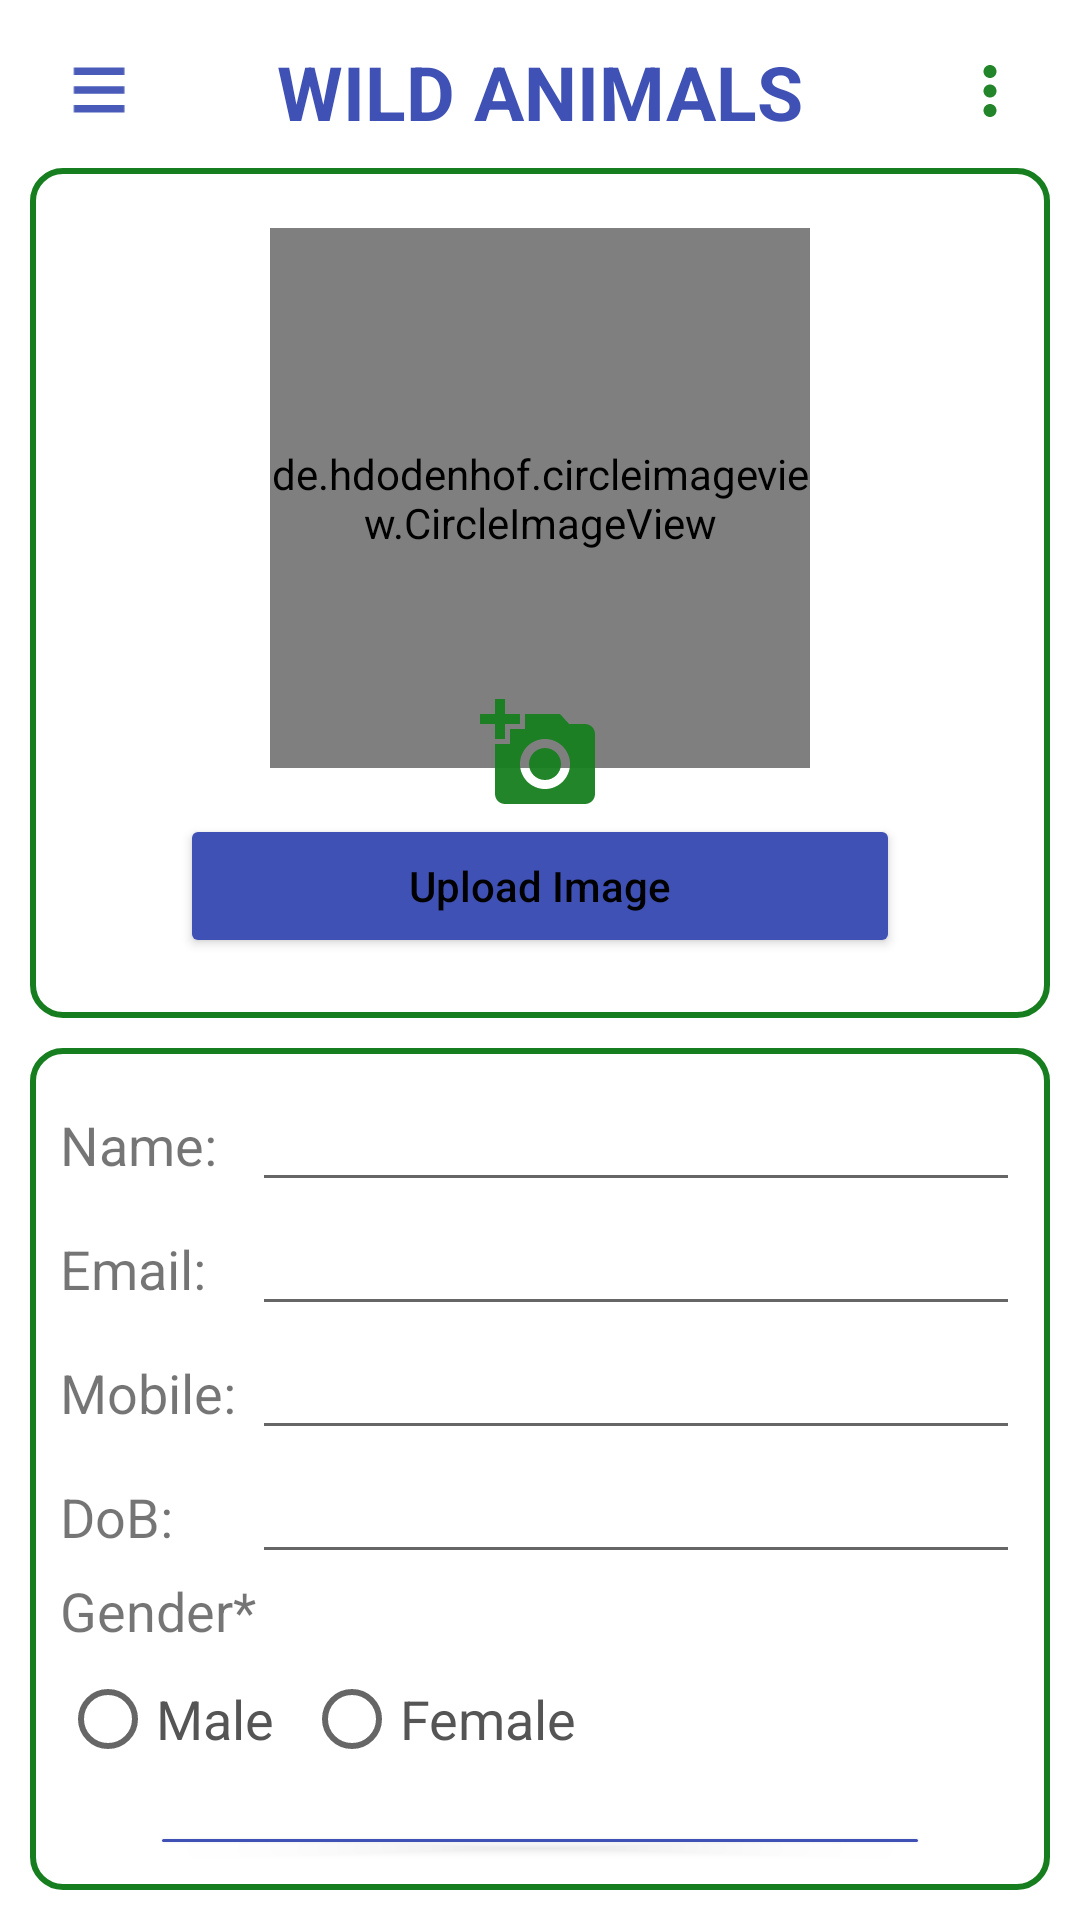

Point at icon controls on the screen. Image size 1080 × 1920, points as point (x, y).
add photo: point (540, 754)
menu: point (99, 90)
three dot: point (990, 91)
